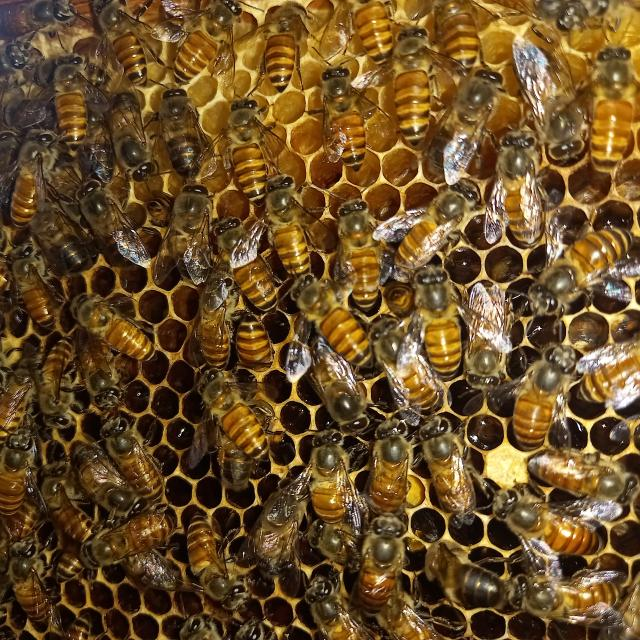honeybee: (182, 368, 294, 468), (511, 34, 599, 160), (527, 216, 640, 312), (370, 184, 469, 292), (424, 66, 515, 176), (515, 560, 640, 638), (375, 21, 446, 148), (369, 309, 445, 426), (496, 494, 604, 572), (417, 534, 525, 611), (147, 0, 238, 91), (68, 185, 152, 282), (483, 137, 553, 251), (325, 201, 404, 302), (506, 339, 571, 458), (85, 522, 192, 594), (525, 445, 640, 511), (296, 281, 384, 366), (586, 36, 638, 179), (312, 59, 374, 178), (217, 91, 285, 197), (252, 176, 322, 278), (179, 520, 248, 618), (151, 188, 214, 294), (416, 266, 468, 390), (209, 216, 273, 316), (243, 484, 308, 582), (53, 54, 119, 150), (83, 0, 151, 90), (415, 0, 490, 81), (27, 332, 83, 440), (300, 438, 362, 533), (70, 293, 159, 359), (102, 85, 160, 186), (102, 414, 167, 503), (154, 94, 215, 188), (65, 511, 172, 564), (250, 7, 313, 97), (0, 124, 55, 226), (414, 421, 470, 516), (308, 336, 367, 425), (70, 445, 147, 513), (3, 544, 68, 624), (464, 286, 514, 386), (577, 344, 640, 422), (359, 420, 411, 514), (19, 191, 79, 272), (2, 248, 56, 337), (46, 472, 100, 561), (74, 348, 132, 428), (338, 0, 402, 72), (495, 0, 607, 39), (0, 0, 78, 40), (0, 448, 39, 519), (0, 93, 55, 142), (0, 370, 29, 446), (3, 40, 51, 82), (199, 317, 233, 370), (169, 608, 224, 640), (240, 321, 275, 369), (232, 620, 286, 640)
